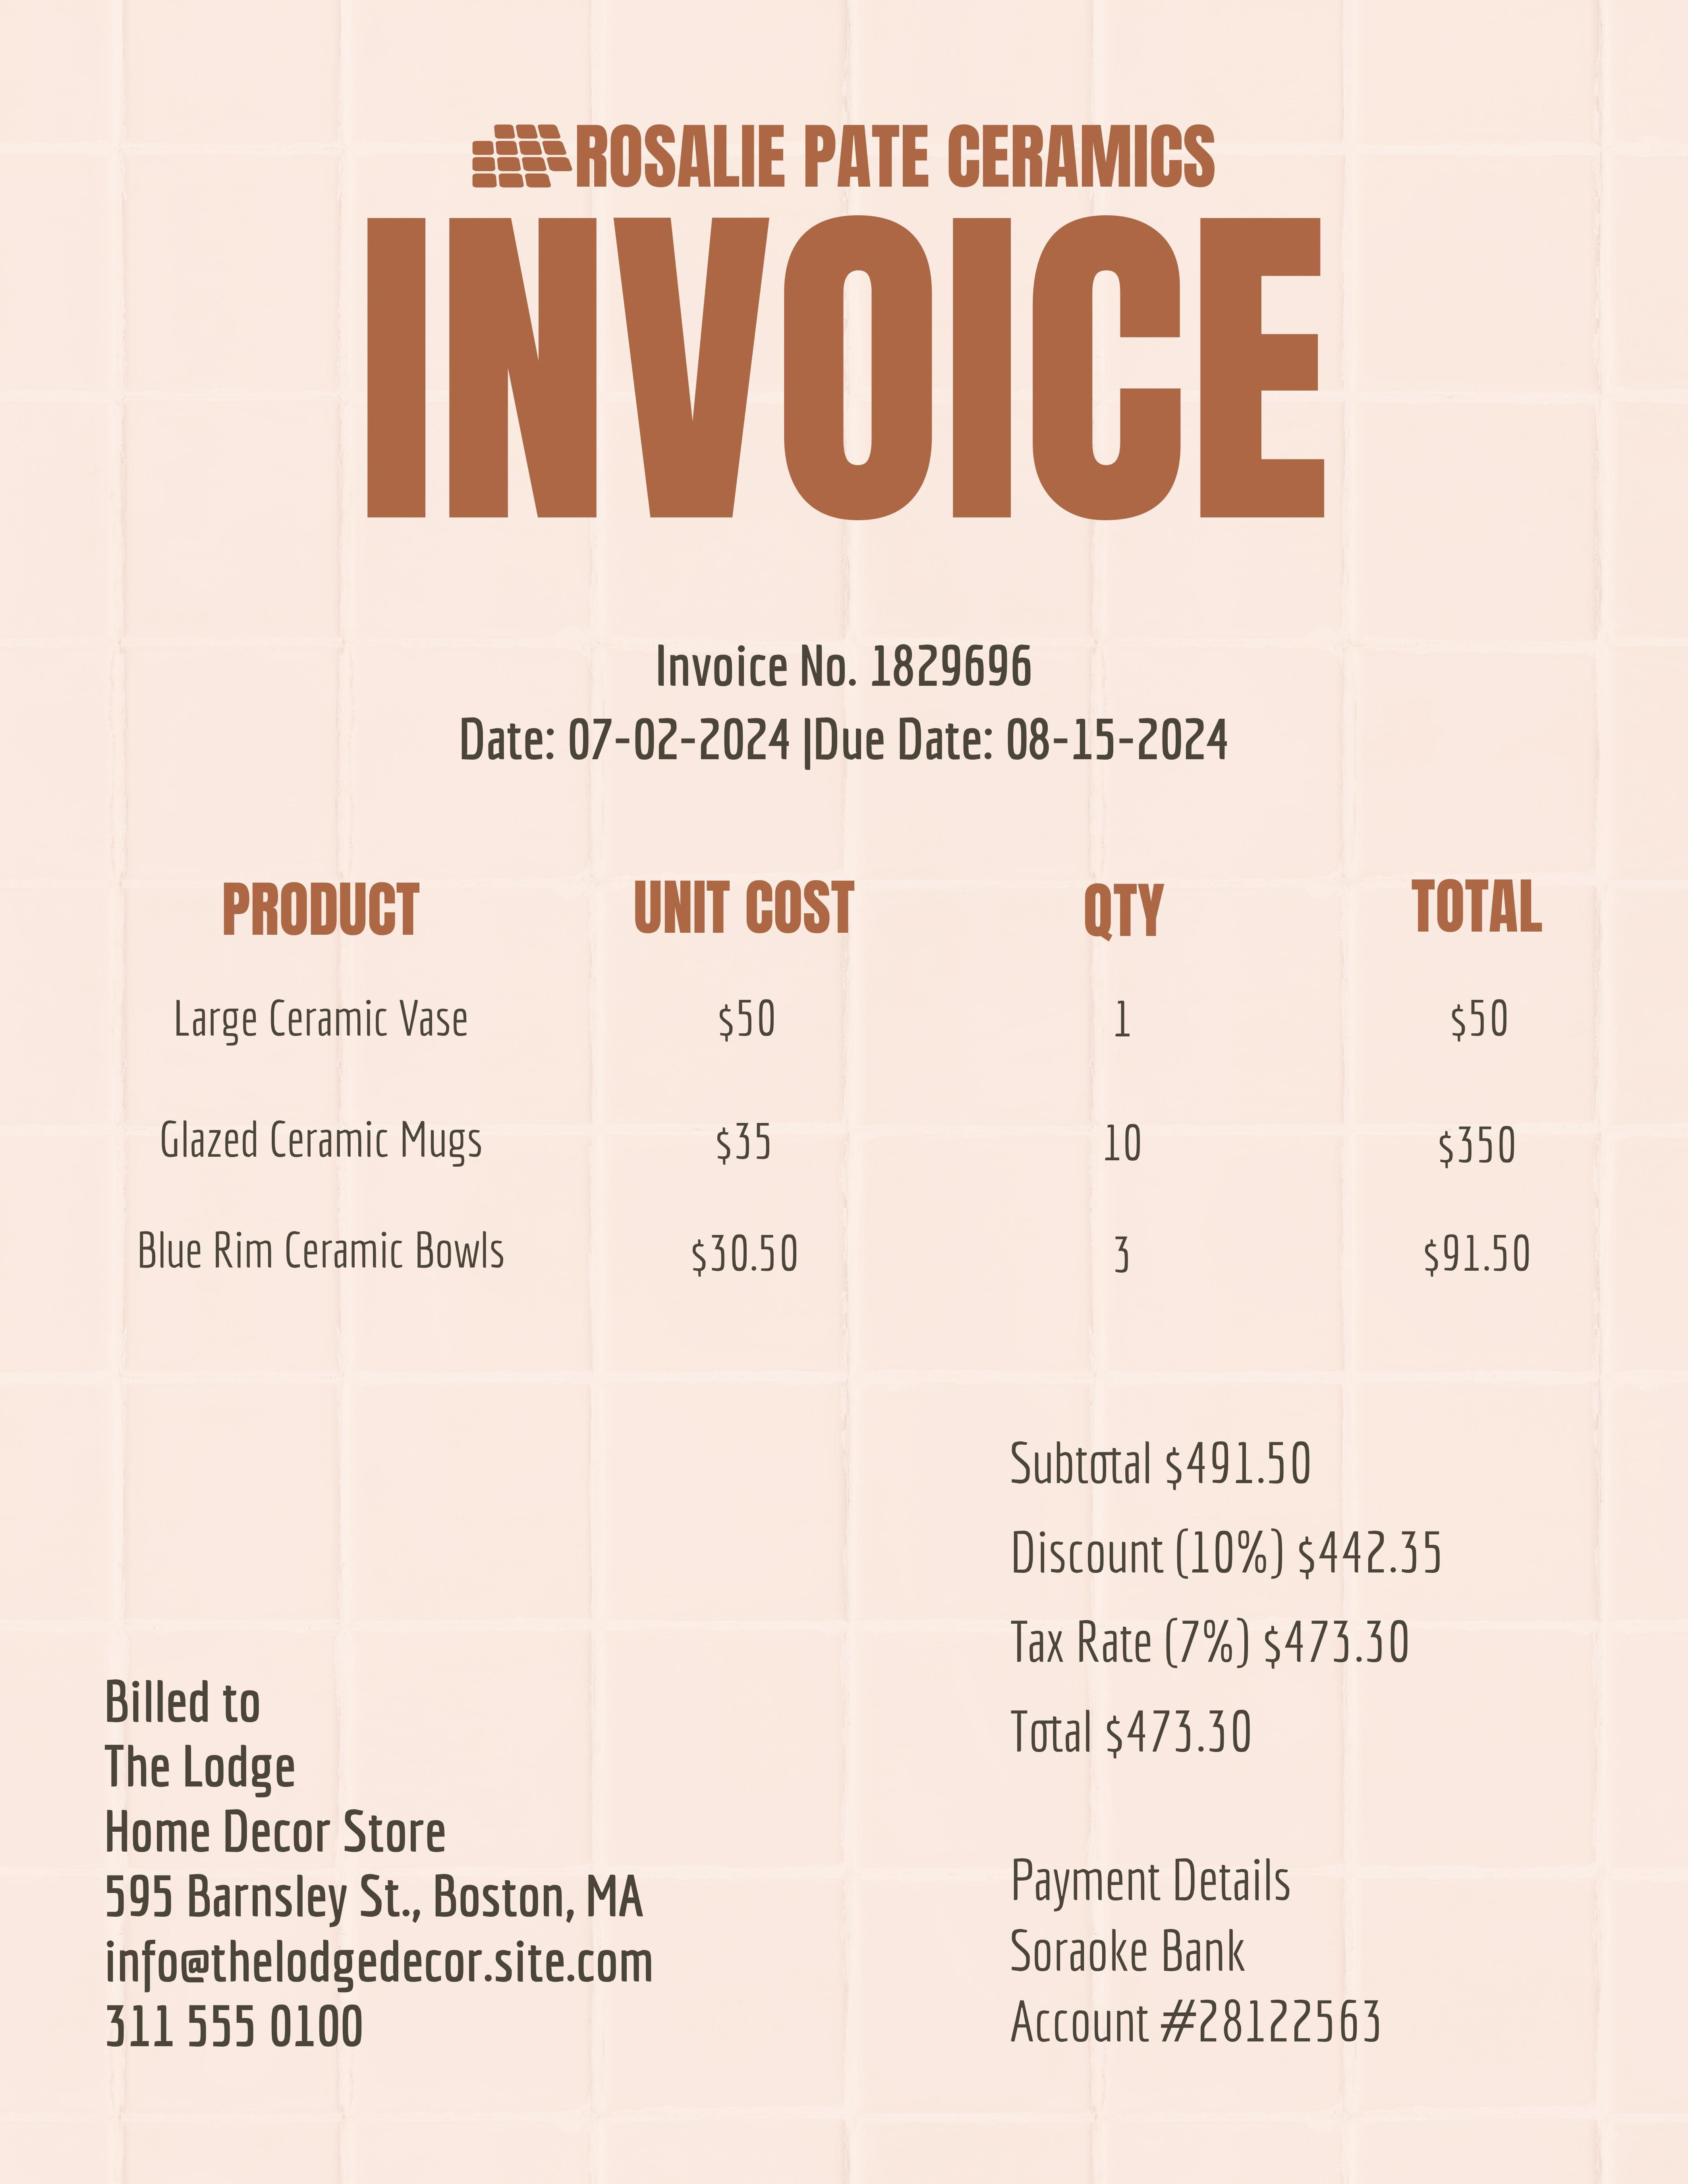ROI: (104, 827, 1584, 1318), (60, 1625, 697, 2086), (1002, 1403, 1469, 1804), (438, 604, 1269, 801), (378, 68, 1257, 204), (962, 1843, 1434, 2071)
